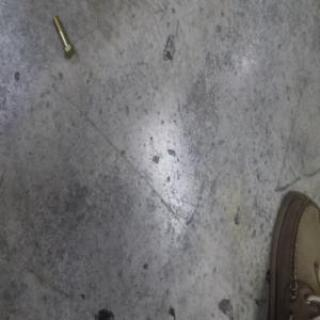Bolttrack_idkeyframe: (51, 12, 74, 59)
